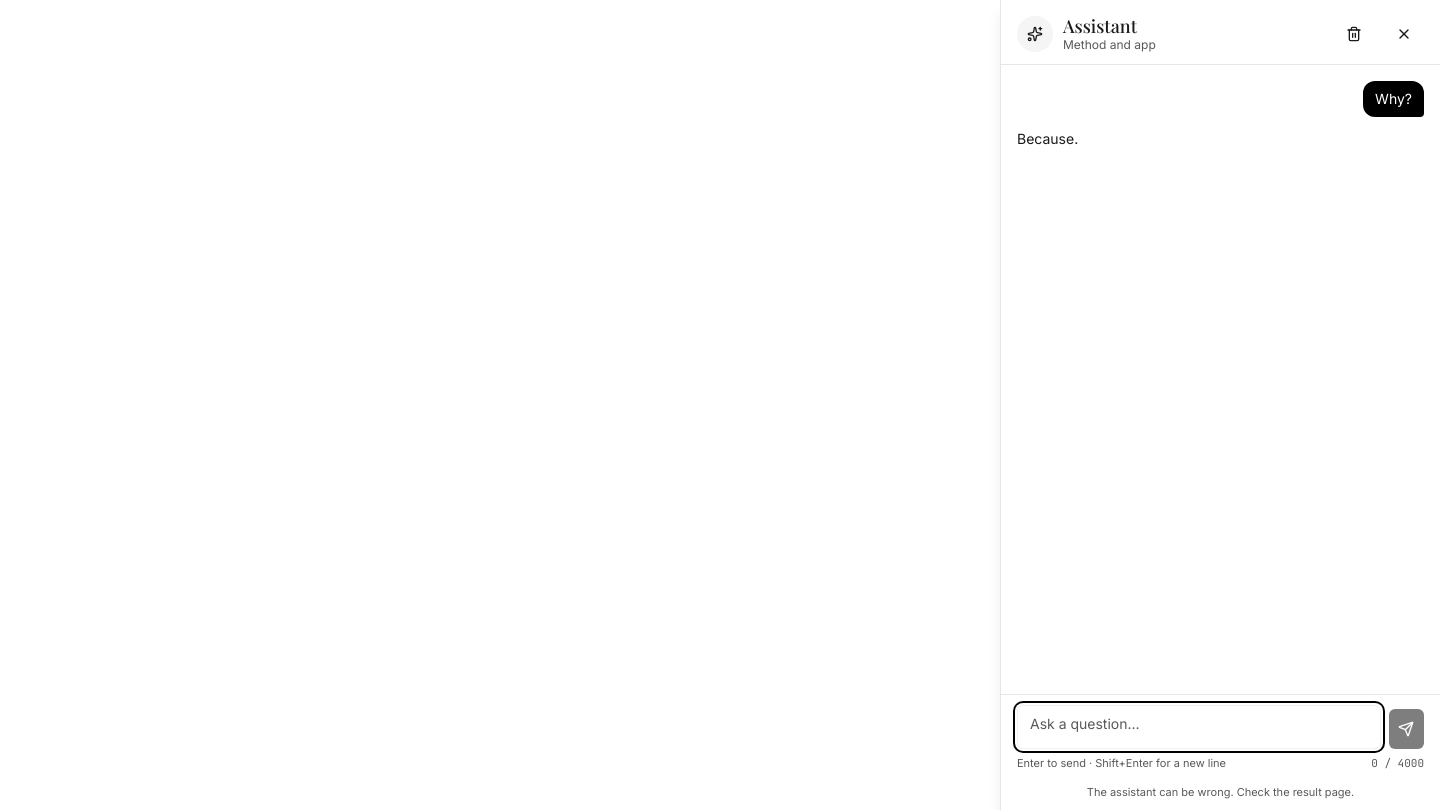
Test: AssistantPanel › clearing › asks inline first, and clears nothing before the answer
Click the button named "Clear conversation" at (1354, 34), box x1=1334 y1=14 x2=1374 y2=54
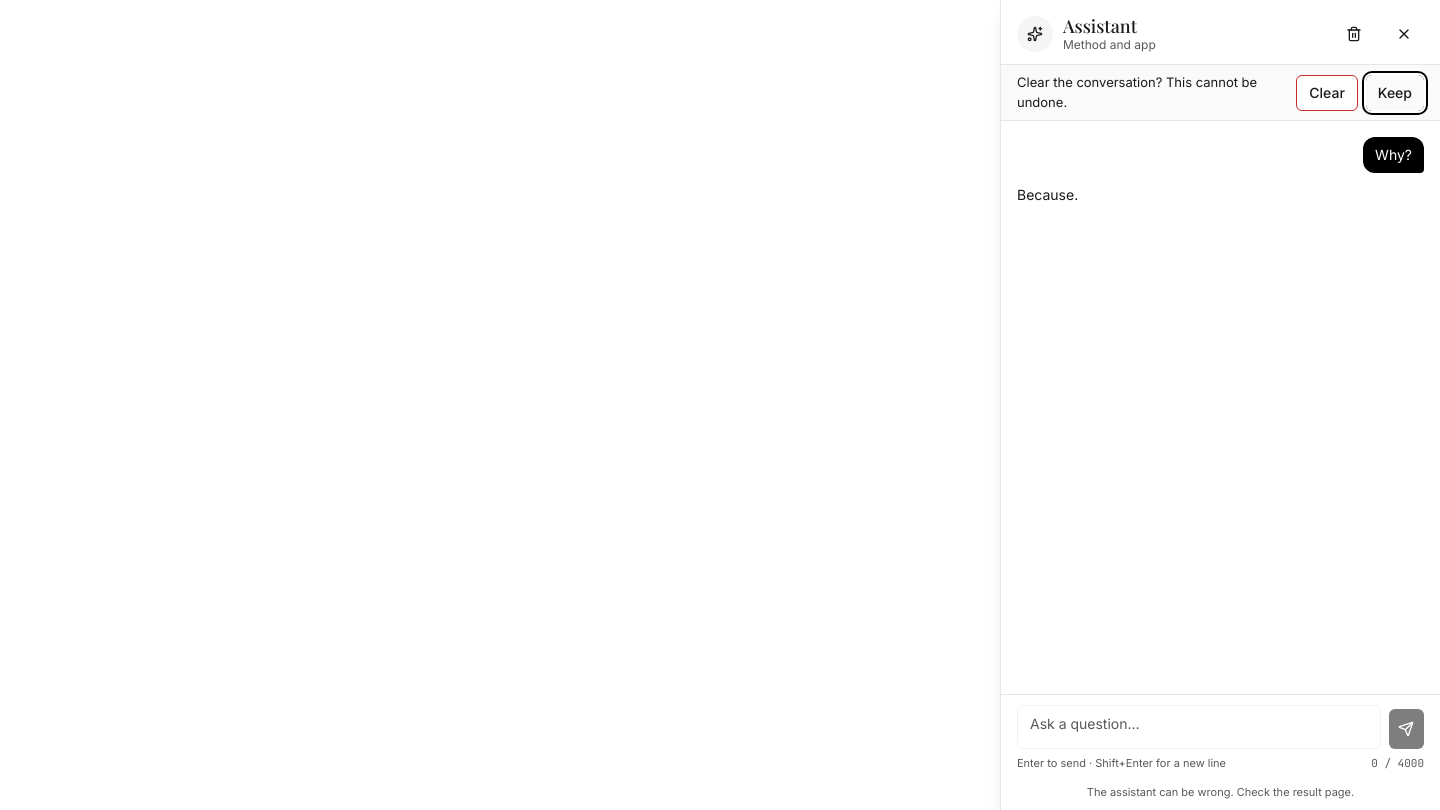
Expected: the number of dialogs is 1, x1=1000 y1=0 x2=1439 y2=809
Result: the element "Clear the conversation? This cannot be undone." is shown at x1=1001 y1=65 x2=1439 y2=121
